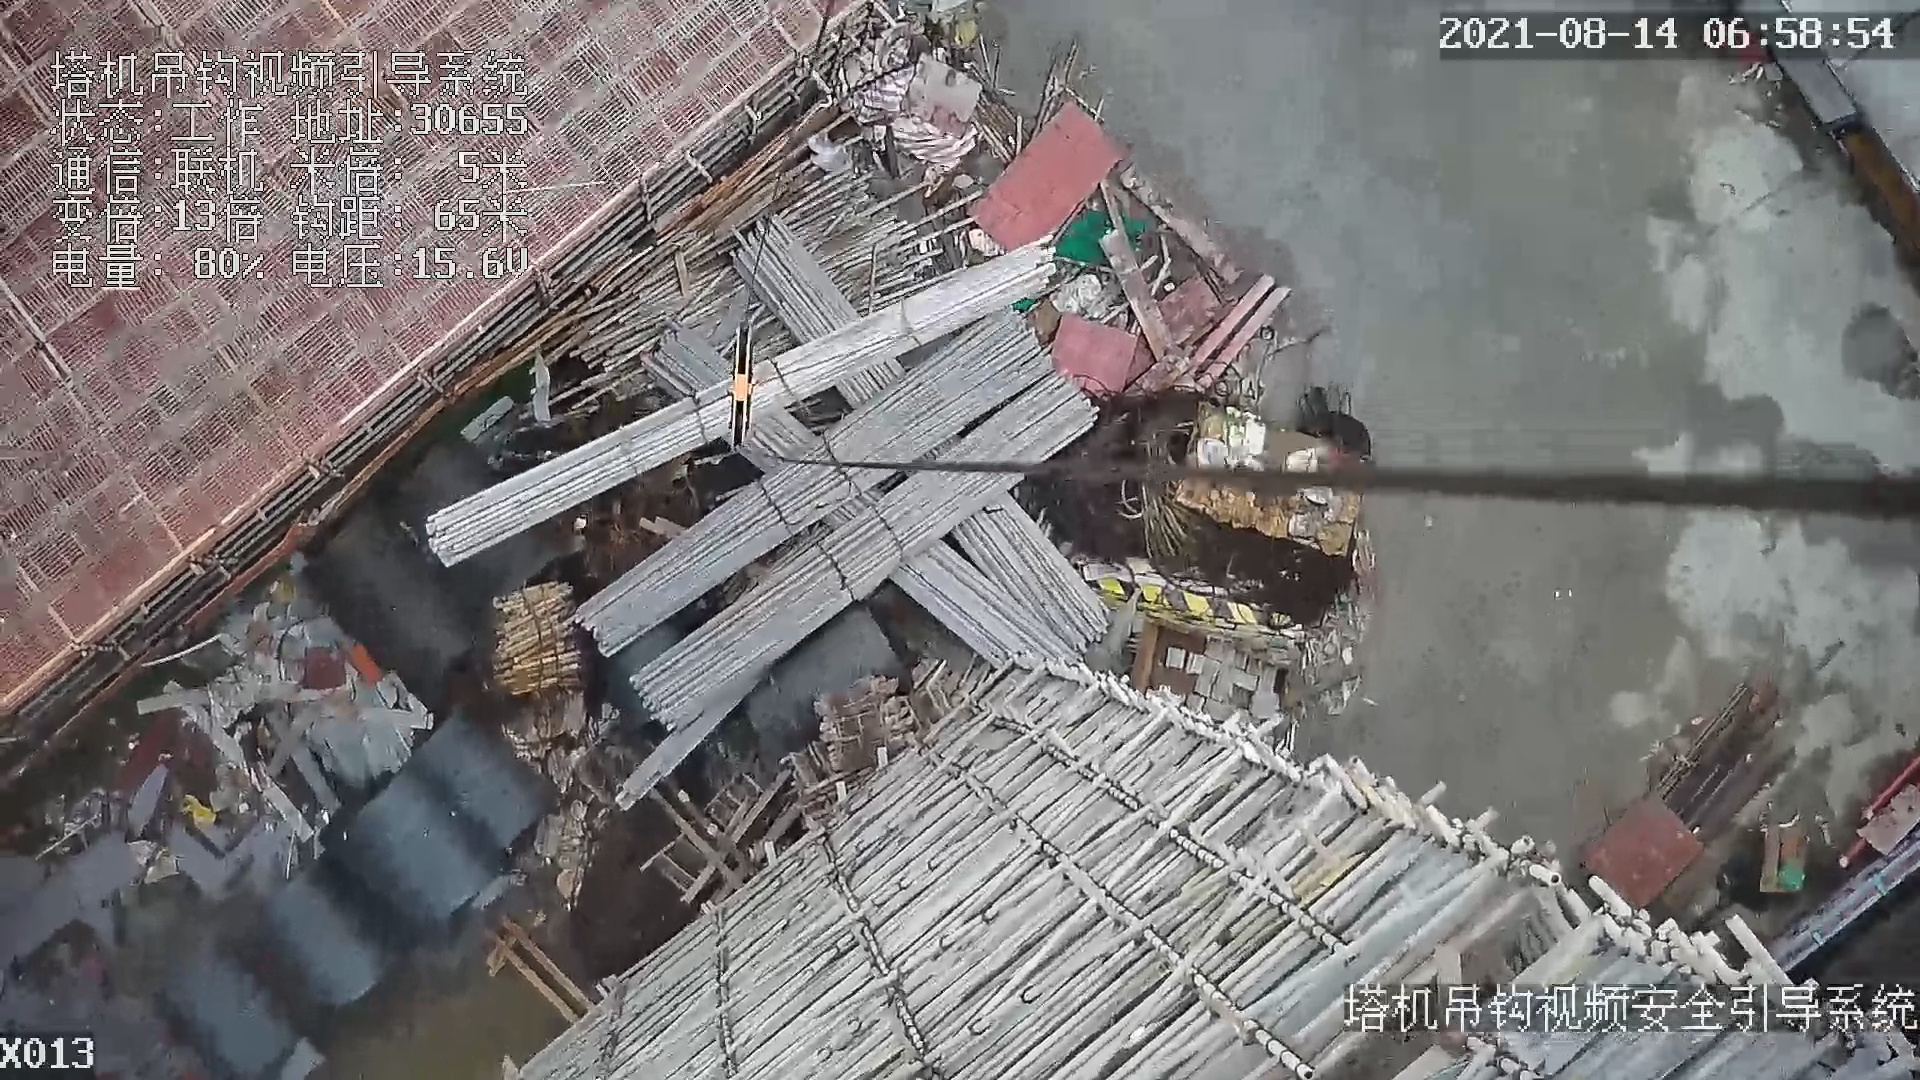hook: (724, 319, 762, 450)
rebar: (423, 243, 1056, 566), (570, 310, 1056, 661), (632, 377, 1102, 735), (905, 541, 1079, 684), (953, 493, 1108, 645)
wood: (493, 579, 574, 695)
